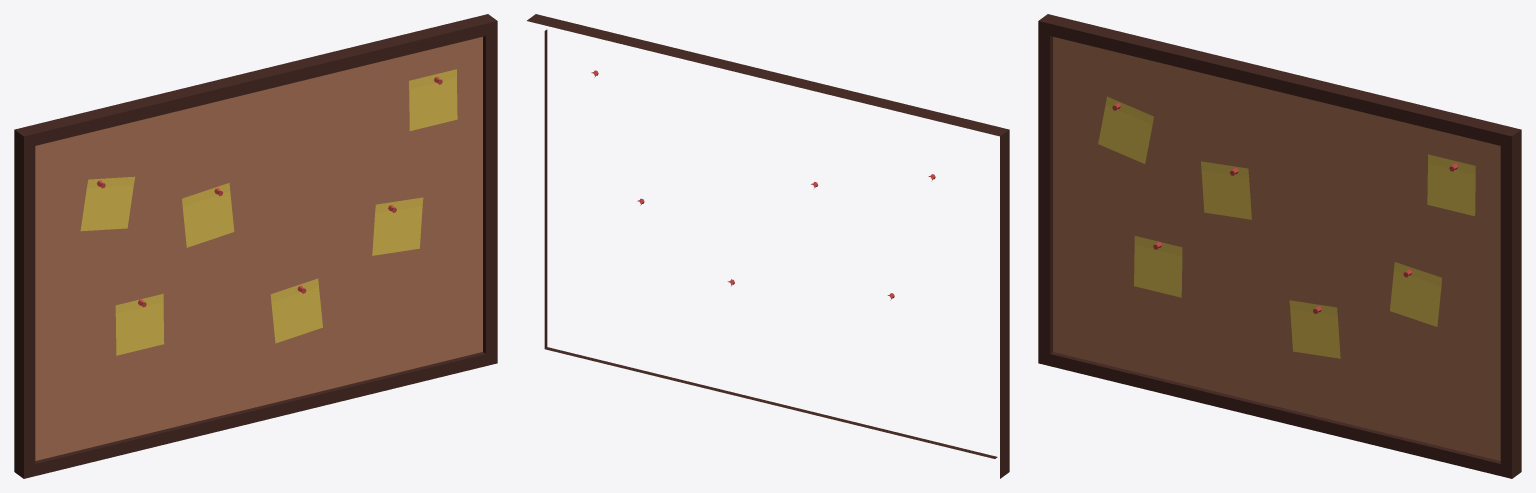
File: poster.glb
The picture shows the model from 3 angles, left to right: view 1: azimuth 30°, elevation 25°; view 2: azimuth 150°, elevation 25°; view 3: azimuth 330°, elevation 25°; orthographic projection.
Parts seen in each view (by area): view 1: Wall_corkboard_with_post_it_notes; view 2: Wall_corkboard_with_post_it_notes; view 3: Wall_corkboard_with_post_it_notes.
Part boxes in pixels (<box>): Wall_corkboard_with_post_it_notes: <box>14,14,497,478</box>; Wall_corkboard_with_post_it_notes: <box>527,14,1009,478</box>; Wall_corkboard_with_post_it_notes: <box>1038,14,1521,478</box>.
Bounding box in the file's own units: 0.7626 × 0.5266 × 0.0306.
Materials: 1 (1 with a texture image).
